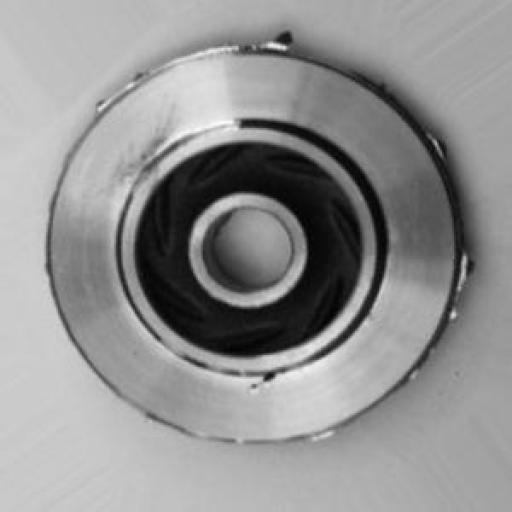defect: (28, 28, 480, 469)
